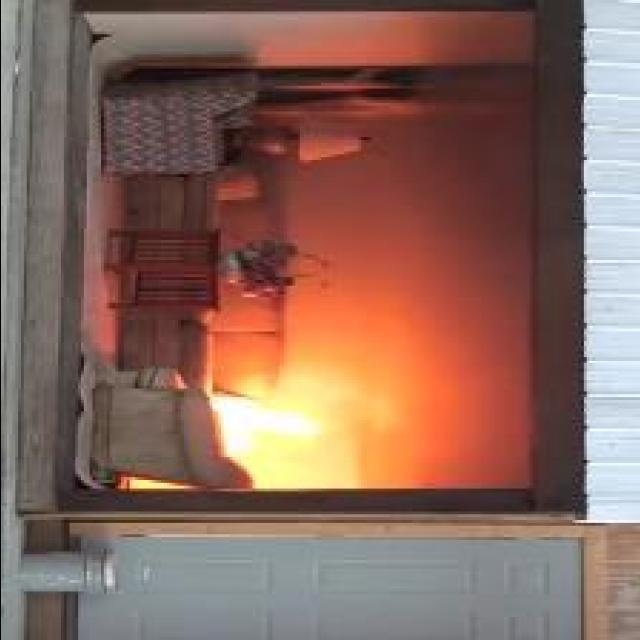Fire: (212, 397, 320, 457)
